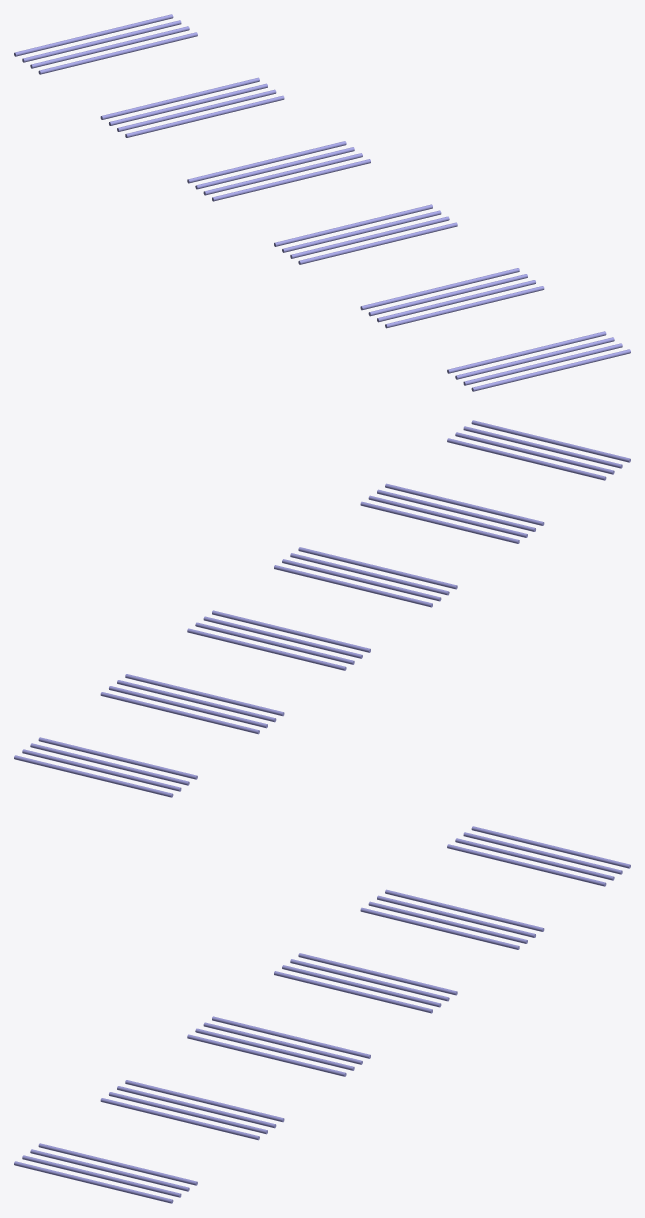
Rendered from Corridor_LampsTubes_MarkNoShadow.fbx.
3 renders of one model, top to bottom at view 1: azimuth 30°, elevation 25°; view 2: azimuth 150°, elevation 25°; view 3: azimuth 330°, elevation 25°, orthographic.
Parts seen in each view (by area): view 1: Environment.Lamps.Sun.Tubes; view 2: Environment.Lamps.Sun.Tubes; view 3: Environment.Lamps.Sun.Tubes.
Boxes of the visible parts, box(x1,y1,x2,y2) form: Environment.Lamps.Sun.Tubes: box(14, 14, 630, 391); Environment.Lamps.Sun.Tubes: box(14, 420, 630, 797); Environment.Lamps.Sun.Tubes: box(14, 826, 630, 1203).
Size of the model in its own units: 1.61 by 0.038 by 8.18.
